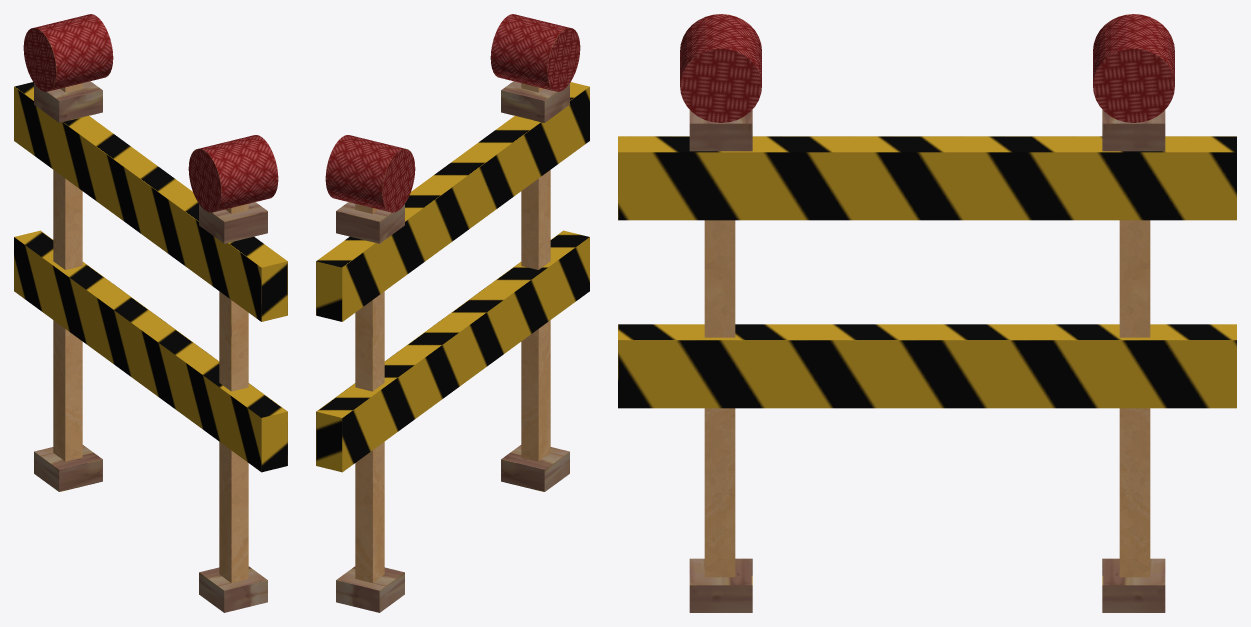
The model's file is Valla_Textures.fbx.
The picture shows the model from 3 angles, left to right: view 1: azimuth 30°, elevation 25°; view 2: azimuth 150°, elevation 25°; view 3: azimuth 270°, elevation 25°; orthographic projection. The views are drawn at different scales.
Visible parts, largest first — view 1: Cube.002, Cube, Cube.001, Cylinder, Cube.004, Cube.003; view 2: Cube.002, Cube, Cube.001, Cylinder, Cube.004, Cube.003; view 3: Cube.002, Cube, Cube.001, Cylinder, Cube.004, Cube.003.
Boxes of the visible parts, box(x1,y1,x2,y2) form: Cube.002: box(14, 230, 287, 472); Cube: box(14, 82, 287, 321); Cube.001: box(53, 83, 248, 582); Cylinder: box(23, 14, 278, 212); Cube.004: box(34, 445, 267, 612); Cube.003: box(34, 81, 267, 243); Cube.002: box(316, 230, 589, 472); Cube: box(316, 82, 589, 321); Cube.001: box(355, 83, 550, 582); Cylinder: box(325, 14, 580, 212); Cube.004: box(336, 445, 569, 612); Cube.003: box(336, 81, 569, 243); Cube.002: box(618, 324, 1236, 408); Cube: box(618, 136, 1236, 220); Cube.001: box(704, 220, 1150, 577); Cylinder: box(680, 14, 1174, 122); Cube.004: box(689, 558, 1165, 612); Cube.003: box(689, 109, 1165, 151).
Bounding box in the file's own units: 18.21 × 139 × 137.
